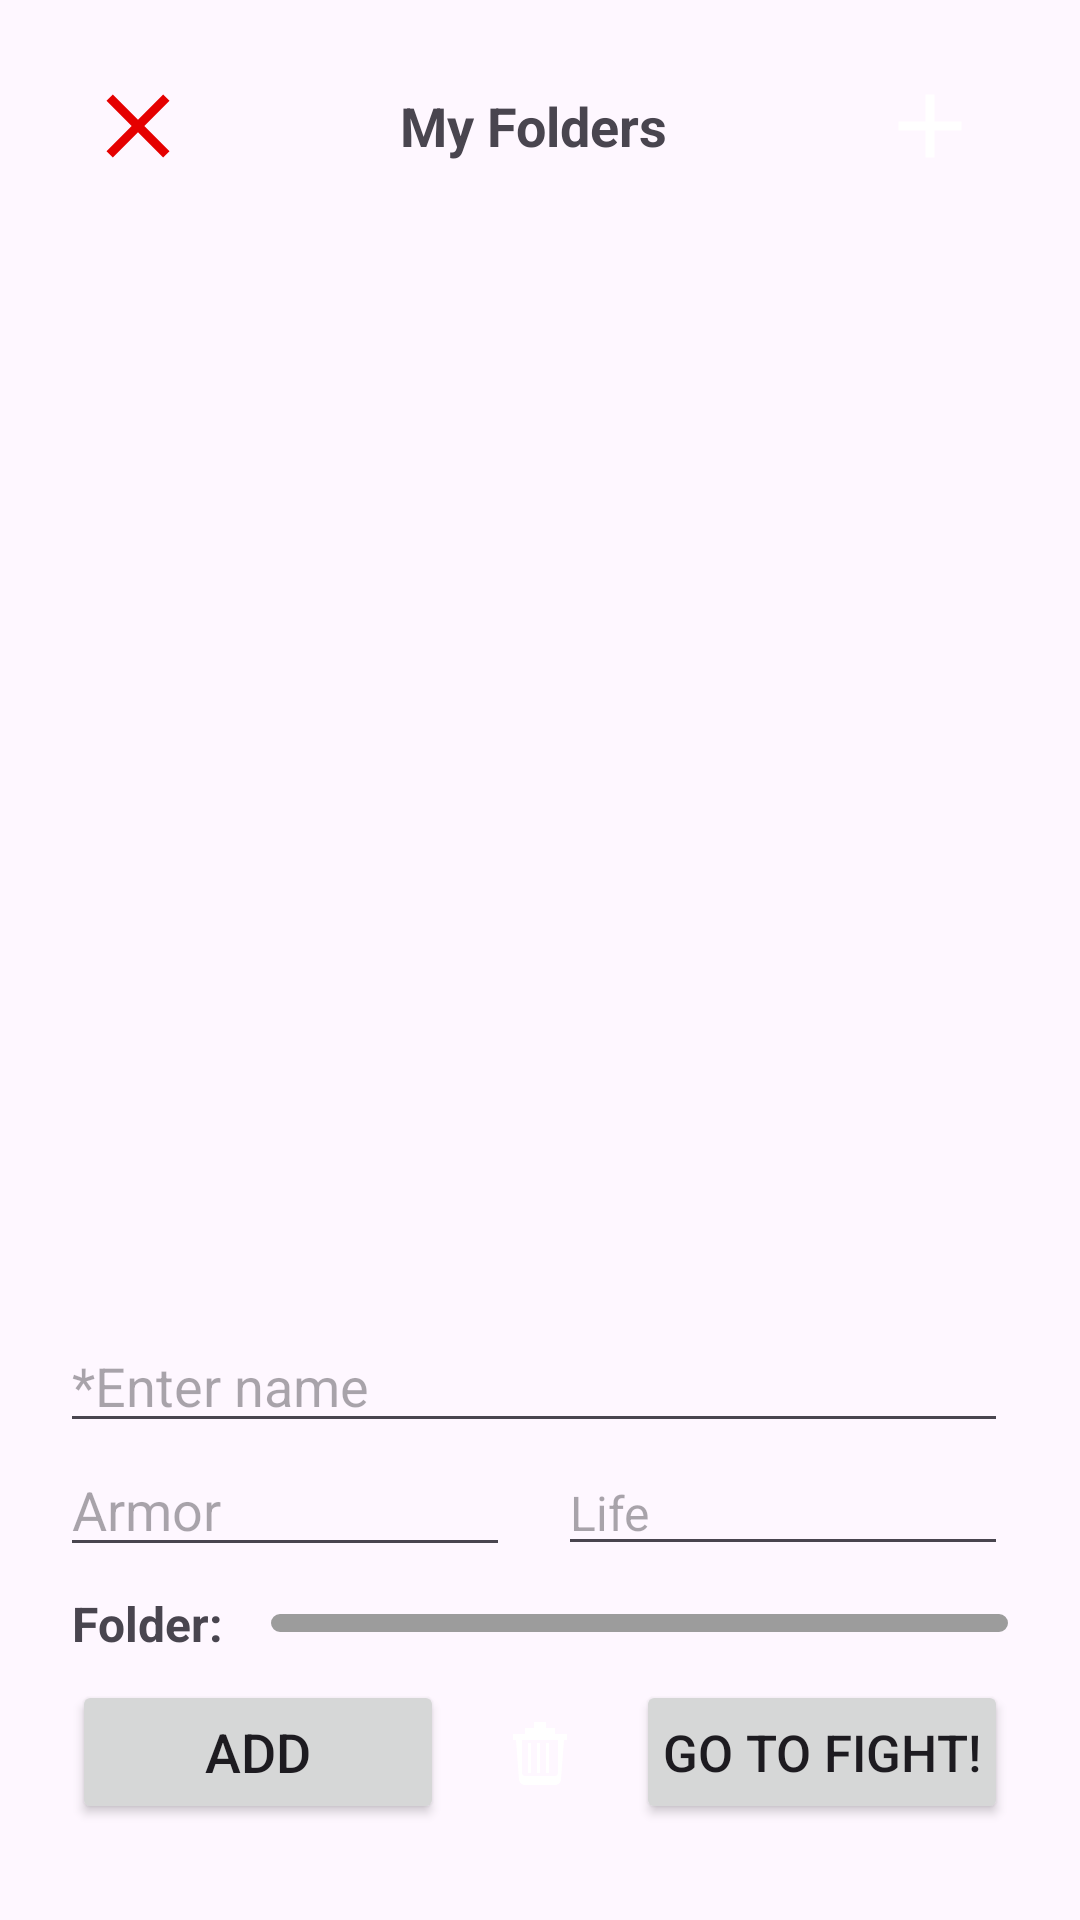

Icon click points for this 1080×1920 phone screenshot, format [x,y]:
Close popup: [138,126]
